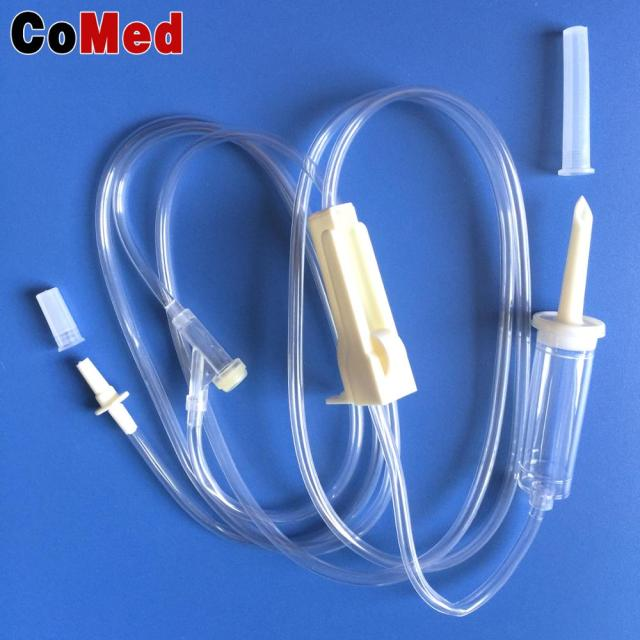B3: (26, 75, 600, 618)
